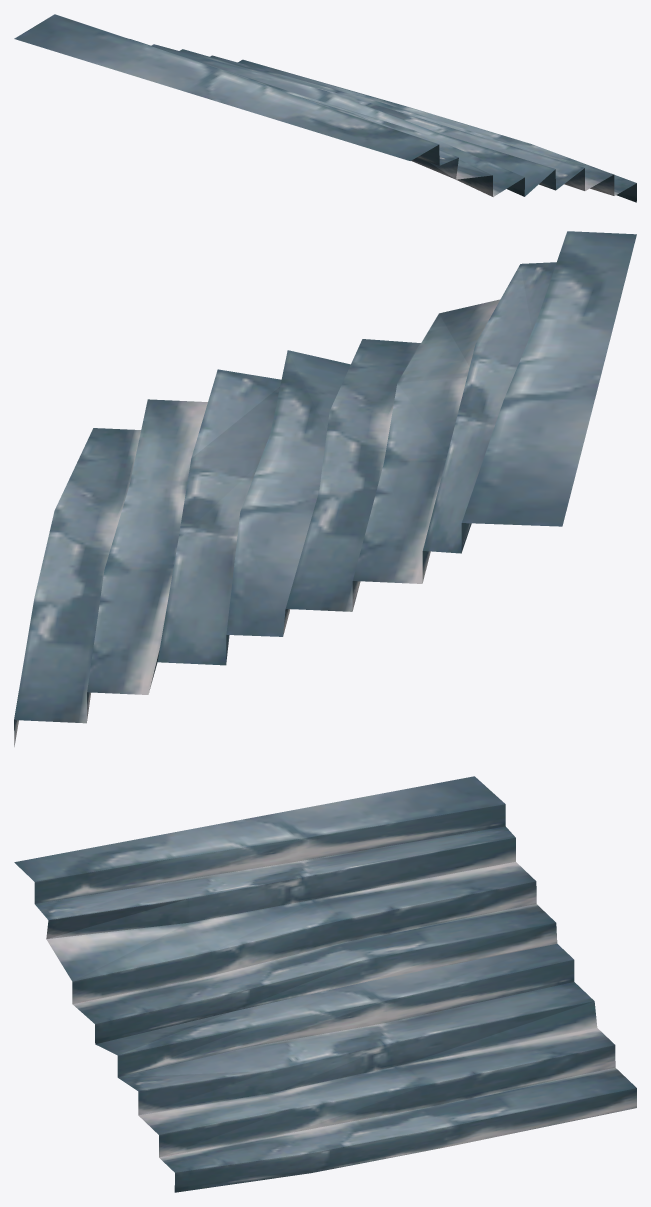
Rendered from snow_02_louti.FBX.
The picture shows the model from 3 angles, top to bottom: view 1: azimuth 30°, elevation 25°; view 2: azimuth 150°, elevation 25°; view 3: azimuth 270°, elevation 25°; orthographic projection. The views are drawn at different scales.
Visible parts, largest first — view 1: louti1; view 2: louti1; view 3: louti1.
Part boxes in pixels (left/top/right/bottom): louti1: left=14, top=14, right=636, bottom=202; louti1: left=14, top=231, right=636, bottom=746; louti1: left=14, top=776, right=636, bottom=1192.
Bounding box in the file's own units: 17.36 × 6.02 × 19.13.
